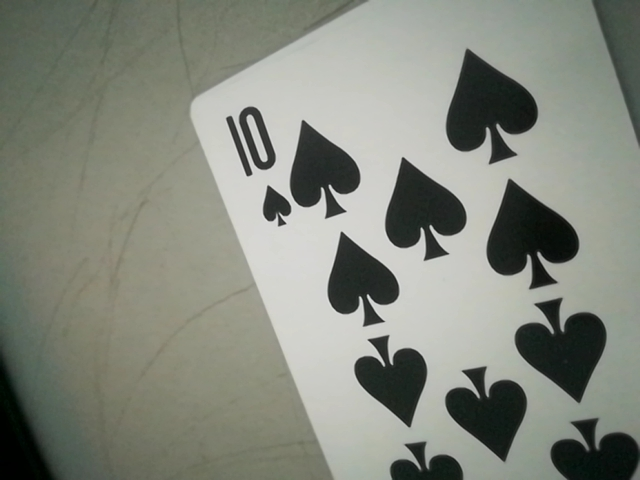ht 10: (221, 92, 300, 233)
